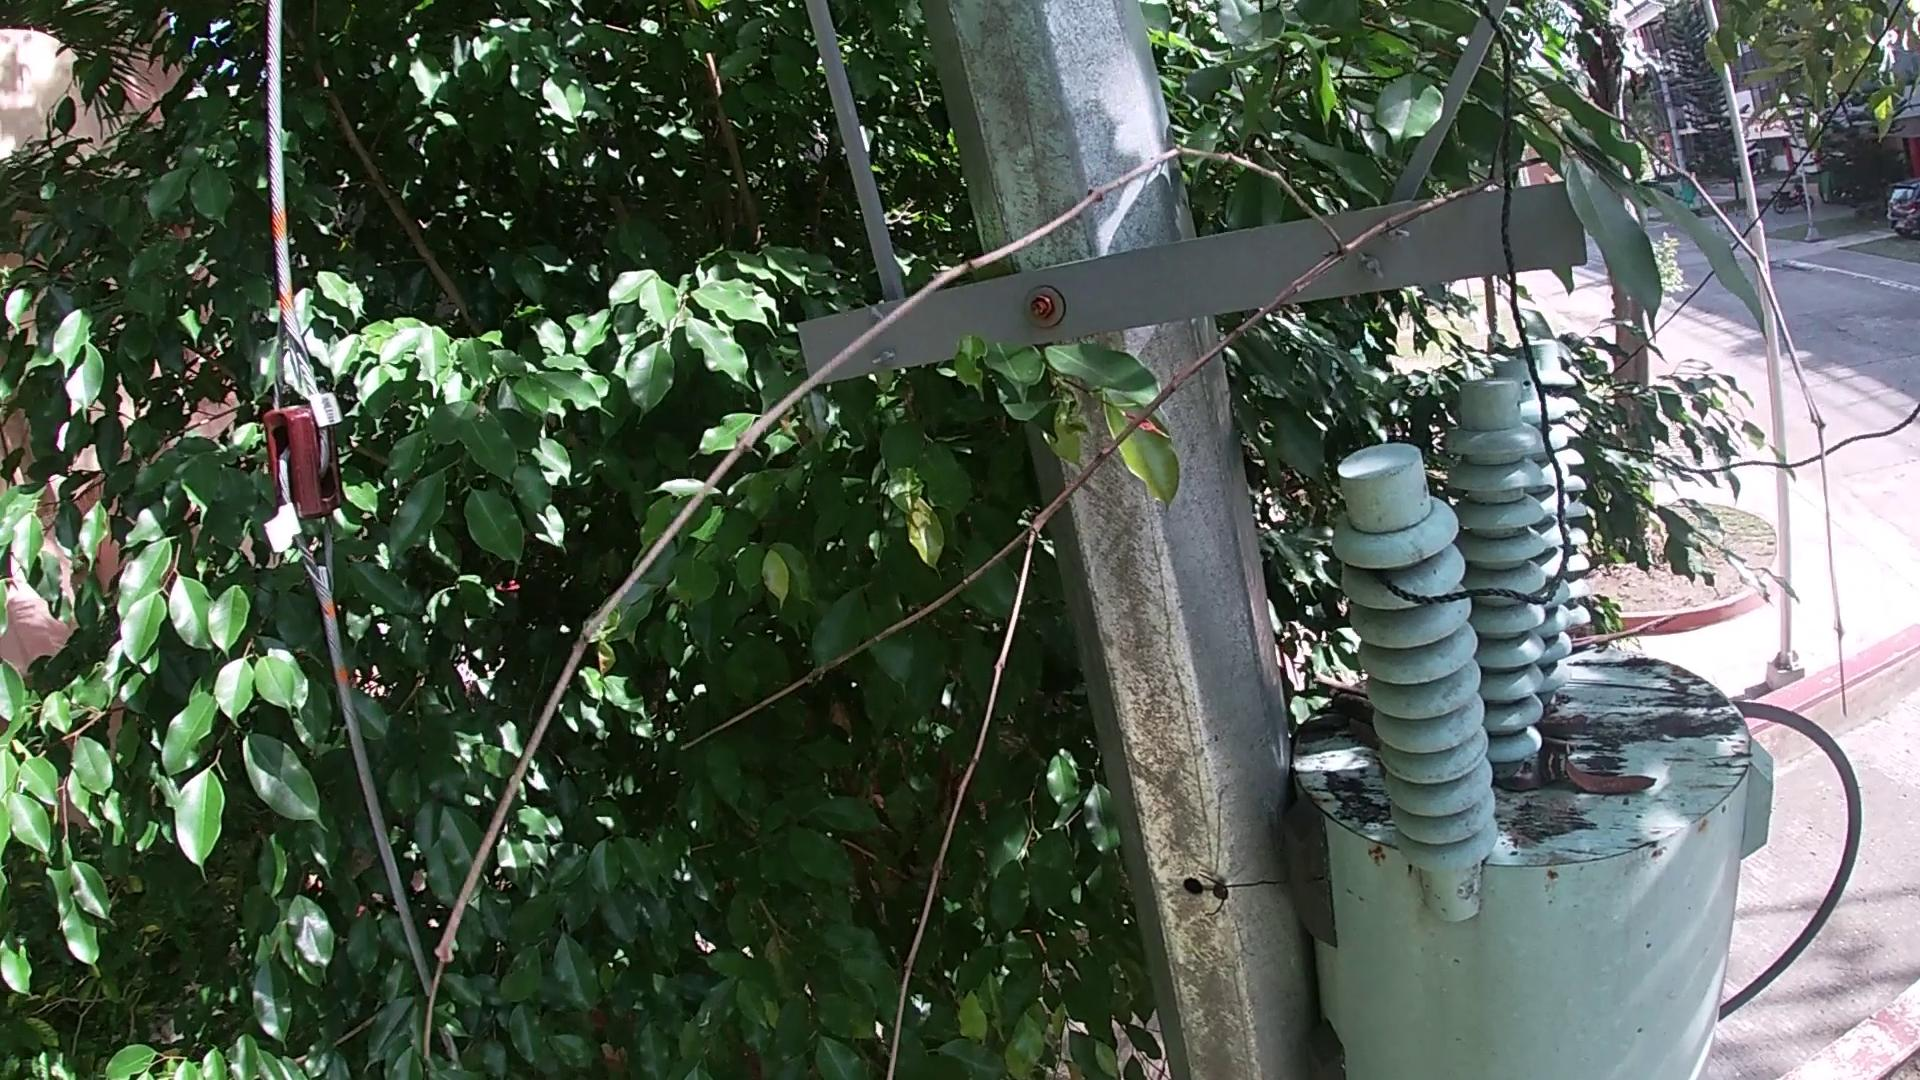leaf: (1557, 744, 1658, 800), (1342, 713, 1381, 749)
tree branch: (415, 65, 1863, 1077), (1568, 607, 1684, 655), (1305, 673, 1375, 724)
